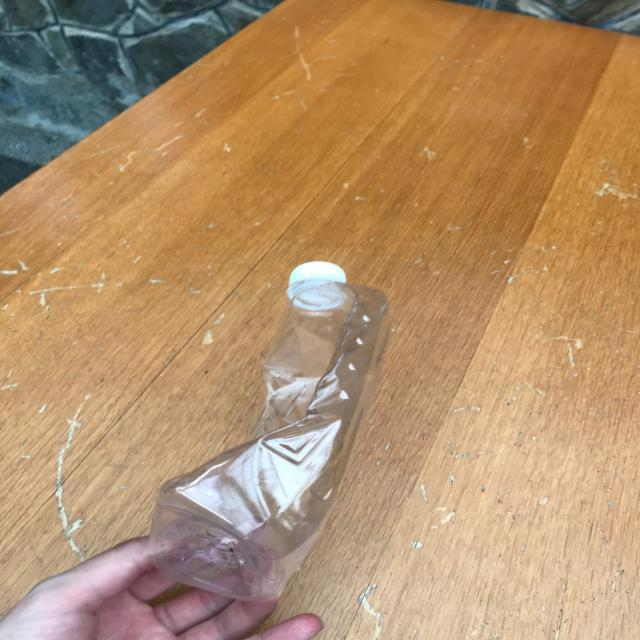plastic_bottle: (147, 262, 390, 602)
